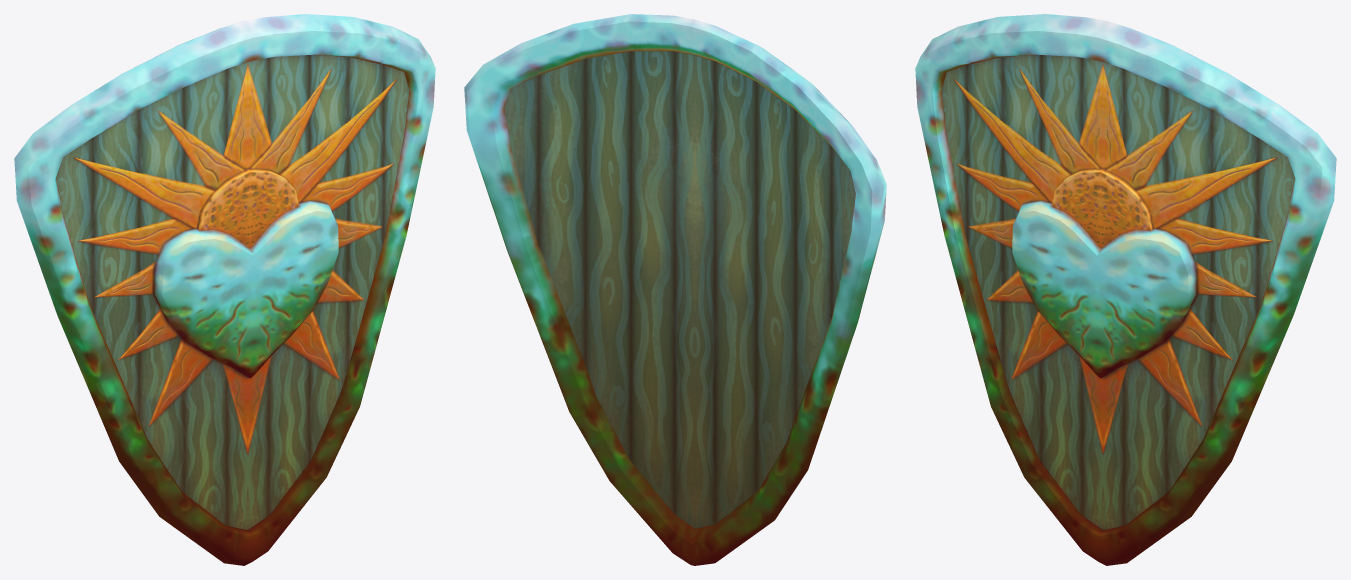
3 renders of one model, left to right at view 1: azimuth 30°, elevation 25°; view 2: azimuth 150°, elevation 25°; view 3: azimuth 330°, elevation 25°, orthographic.
Parts seen in each view (by area): view 1: Shield; view 2: Shield; view 3: Shield.
Boxes of the visible parts, x1=… form: Shield: x1=14, y1=14, x2=435, y2=565; Shield: x1=464, y1=14, x2=886, y2=565; Shield: x1=915, y1=14, x2=1336, y2=565.
Bounding box in the file's own units: 0.9857 × 1.23 × 0.1413.
Materials: 1 (1 with a texture image).
